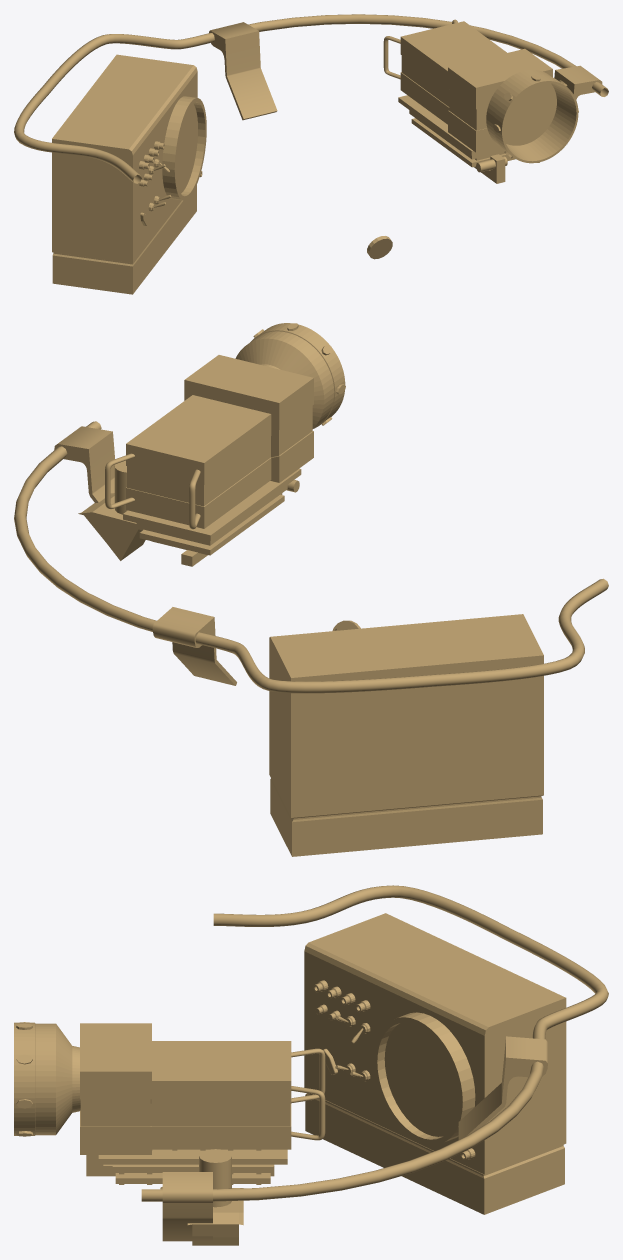
The model's file is MKII.fbx.
The picture shows the model from 3 angles, top to bottom: view 1: azimuth 30°, elevation 25°; view 2: azimuth 150°, elevation 25°; view 3: azimuth 270°, elevation 25°; orthographic projection. The views are drawn at different scales.
Parts seen in each view (by area): view 1: Cube.048, Cube.047, BezierCircle, Cylinder.074, Cylinder.078, Cube.041, Cube.046, Cube.040, Cube.064, Cylinder.077, Cube.043, Cube.045; view 2: Cube.048, Cube.047, BezierCircle, Cylinder.074, Cube.041, Cube.040, Cube.046, Cube.042, Cube.064, NurbsPath.008, Cube.045; view 3: Cube.048, Cube.047, BezierCircle, Cylinder.078, Cylinder.074, Cube.040, Cube.041, Cube.046, Cube.042, NurbsPath.008, Cylinder.053, Cube.045 (+1 smaller).
Boxes of the visible parts, bbox=[...] form: Cube.048: bbox=[52, 54, 197, 294]; Cube.047: bbox=[400, 21, 552, 152]; BezierCircle: bbox=[14, 14, 608, 183]; Cylinder.074: bbox=[486, 69, 578, 163]; Cylinder.078: bbox=[162, 96, 206, 200]; Cube.041: bbox=[209, 22, 277, 120]; Cube.046: bbox=[398, 95, 501, 155]; Cube.040: bbox=[554, 65, 602, 99]; Cube.064: bbox=[411, 118, 512, 167]; Cylinder.077: bbox=[367, 236, 392, 259]; Cube.043: bbox=[474, 154, 505, 183]; Cube.045: bbox=[409, 110, 504, 159]; Cube.048: bbox=[269, 614, 543, 856]; Cube.047: bbox=[126, 355, 313, 528]; BezierCircle: bbox=[14, 421, 608, 693]; Cylinder.074: bbox=[235, 323, 345, 428]; Cube.041: bbox=[152, 607, 236, 685]; Cube.040: bbox=[54, 426, 114, 503]; Cube.046: bbox=[123, 468, 301, 540]; Cube.042: bbox=[78, 493, 145, 560]; Cube.064: bbox=[139, 494, 284, 555]; NurbsPath.008: bbox=[105, 453, 200, 529]; Cube.045: bbox=[136, 485, 287, 545]; Cube.048: bbox=[304, 913, 566, 1214]; Cube.047: bbox=[80, 1023, 291, 1154]; BezierCircle: bbox=[141, 885, 608, 1201]; Cylinder.078: bbox=[373, 1012, 475, 1144]; Cylinder.074: bbox=[14, 1022, 80, 1135]; Cube.040: bbox=[162, 1172, 212, 1241]; Cube.041: bbox=[458, 1036, 547, 1139]; Cube.046: bbox=[98, 1149, 287, 1164]; Cube.042: bbox=[187, 1188, 243, 1245]; NurbsPath.008: bbox=[291, 1048, 325, 1140]; Cylinder.053: bbox=[199, 1149, 231, 1207]; Cube.045: bbox=[112, 1164, 273, 1172].
Bounding box in the file's own units: 36.3 × 15.81 × 29.41.
